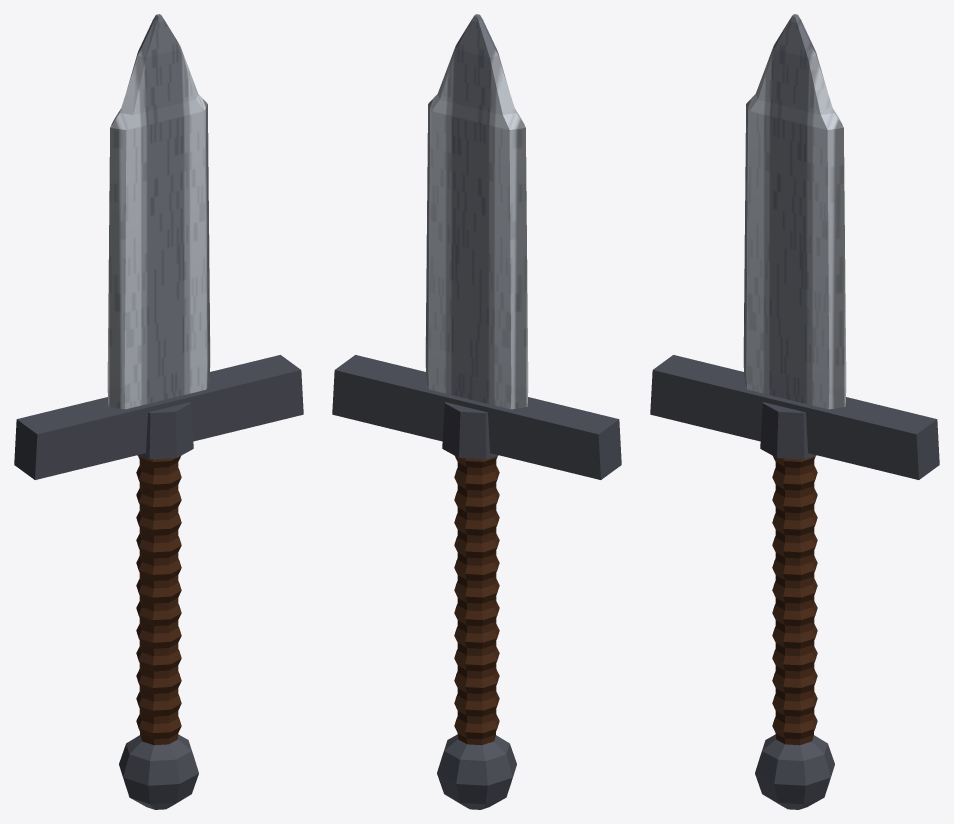
File: iron_knife.obj
The picture shows the model from 3 angles, left to right: view 1: azimuth 30°, elevation 25°; view 2: azimuth 150°, elevation 25°; view 3: azimuth 330°, elevation 25°; orthographic projection.
Visible parts, largest first — view 1: A_Blade.001_iron_knife_blade, B_Guard.001_iron_knife_fittings, C_Grip.001_iron_knife_grip, C_Pommel.001_iron_knife_fittings, B_Collar.001_iron_knife_fittings; view 2: A_Blade.001_iron_knife_blade, B_Guard.001_iron_knife_fittings, C_Grip.001_iron_knife_grip, C_Pommel.001_iron_knife_fittings, B_Collar.001_iron_knife_fittings; view 3: A_Blade.001_iron_knife_blade, B_Guard.001_iron_knife_fittings, C_Grip.001_iron_knife_grip, C_Pommel.001_iron_knife_fittings, B_Collar.001_iron_knife_fittings.
Boxes of the visible parts, x1,y1,x2,y2 form: A_Blade.001_iron_knife_blade: [107, 14, 210, 409]; B_Guard.001_iron_knife_fittings: [14, 355, 303, 479]; C_Grip.001_iron_knife_grip: [136, 456, 181, 745]; C_Pommel.001_iron_knife_fittings: [119, 734, 198, 809]; B_Collar.001_iron_knife_fittings: [137, 402, 193, 459]; A_Blade.001_iron_knife_blade: [425, 14, 528, 409]; B_Guard.001_iron_knife_fittings: [332, 355, 621, 479]; C_Grip.001_iron_knife_grip: [454, 456, 499, 745]; C_Pommel.001_iron_knife_fittings: [437, 734, 516, 809]; B_Collar.001_iron_knife_fittings: [442, 402, 498, 459]; A_Blade.001_iron_knife_blade: [743, 14, 846, 409]; B_Guard.001_iron_knife_fittings: [650, 355, 939, 479]; C_Grip.001_iron_knife_grip: [772, 456, 817, 745]; C_Pommel.001_iron_knife_fittings: [755, 734, 834, 809]; B_Collar.001_iron_knife_fittings: [760, 402, 816, 459].
Bounding box in the file's own units: 1.12 × 3.15 × 0.3.
3 materials, 1 textured.
